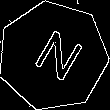N_SW: (23, 24, 83, 88)
